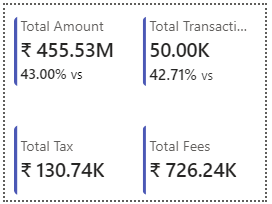

The page's visual inventory and layout, read from the dashboard file:
{"tool":"powerbi","page":{"name":"Tooltip","canvas":[320,240],"ordinal":2},"visuals":[{"type":"cardVisual","fields":{"Data":["finance_transactions.Total Amount","finance_transactions.Total Transactions"]},"box":[5,8,310,98],"z":0},{"type":"cardVisual","fields":{"Data":["finance_transactions.Total Tax","finance_transactions.Total Fees"]},"box":[5,141.7,310,98.3],"z":1000}]}

Visuals, with their boxes in screenshot pixels (x1, y1, x2, y2), scaled from the page's 320x240 canvas onto the 272x204 screenshot:
cardVisual - finance_transactions.Total Amount x finance_transactions.Total Transactions: bbox(4, 7, 268, 90)
cardVisual - finance_transactions.Total Tax x finance_transactions.Total Fees: bbox(4, 120, 268, 203)
